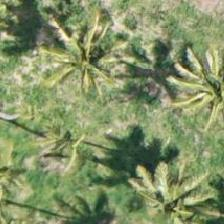coconut_tree: (43, 24, 133, 114), (129, 161, 219, 223), (176, 50, 223, 140)
